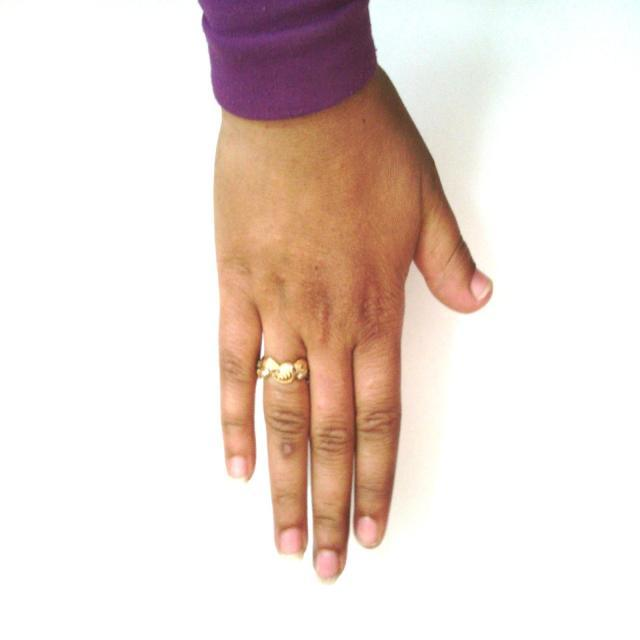Fingernail: (316, 551, 338, 584), (356, 517, 378, 547), (280, 529, 302, 556), (471, 272, 491, 300), (229, 458, 247, 479)
